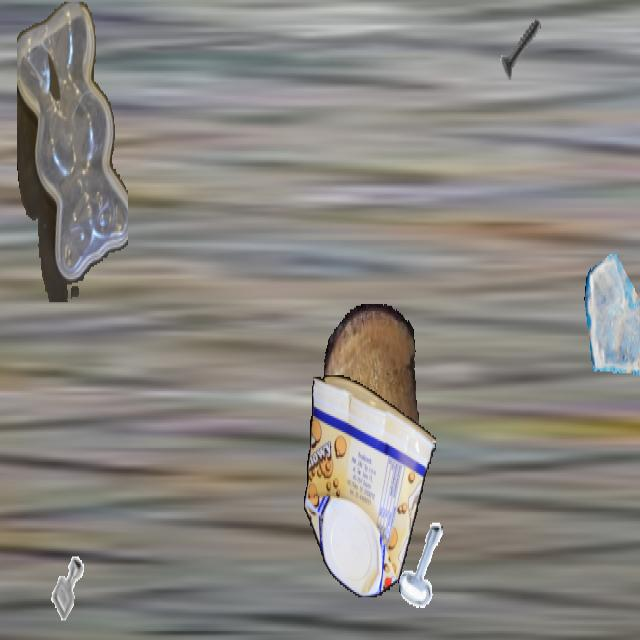glass: (584, 247, 640, 379)
metal: (495, 2, 547, 94), (398, 521, 450, 613), (43, 542, 93, 631)
plastic: (17, 2, 127, 300), (304, 375, 436, 596)
wood: (324, 304, 418, 489)
